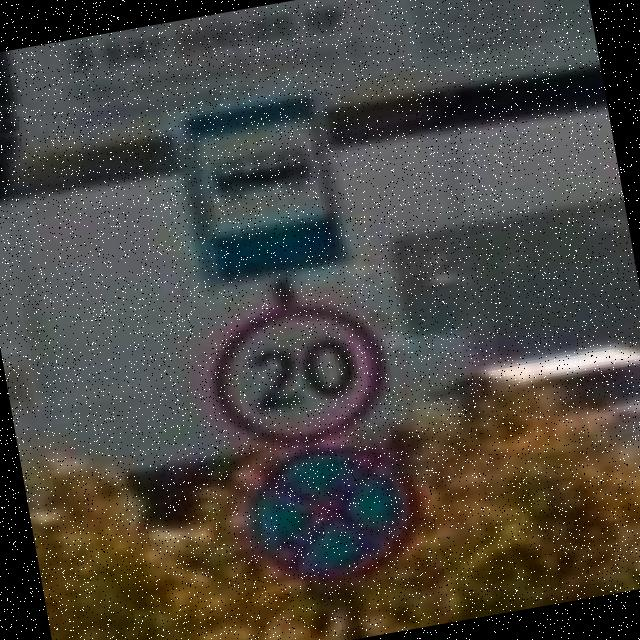Ograniczenie predkosci do 20: (200, 289, 400, 459)
Zakaz zatrzymywania sie: (230, 430, 428, 598)
